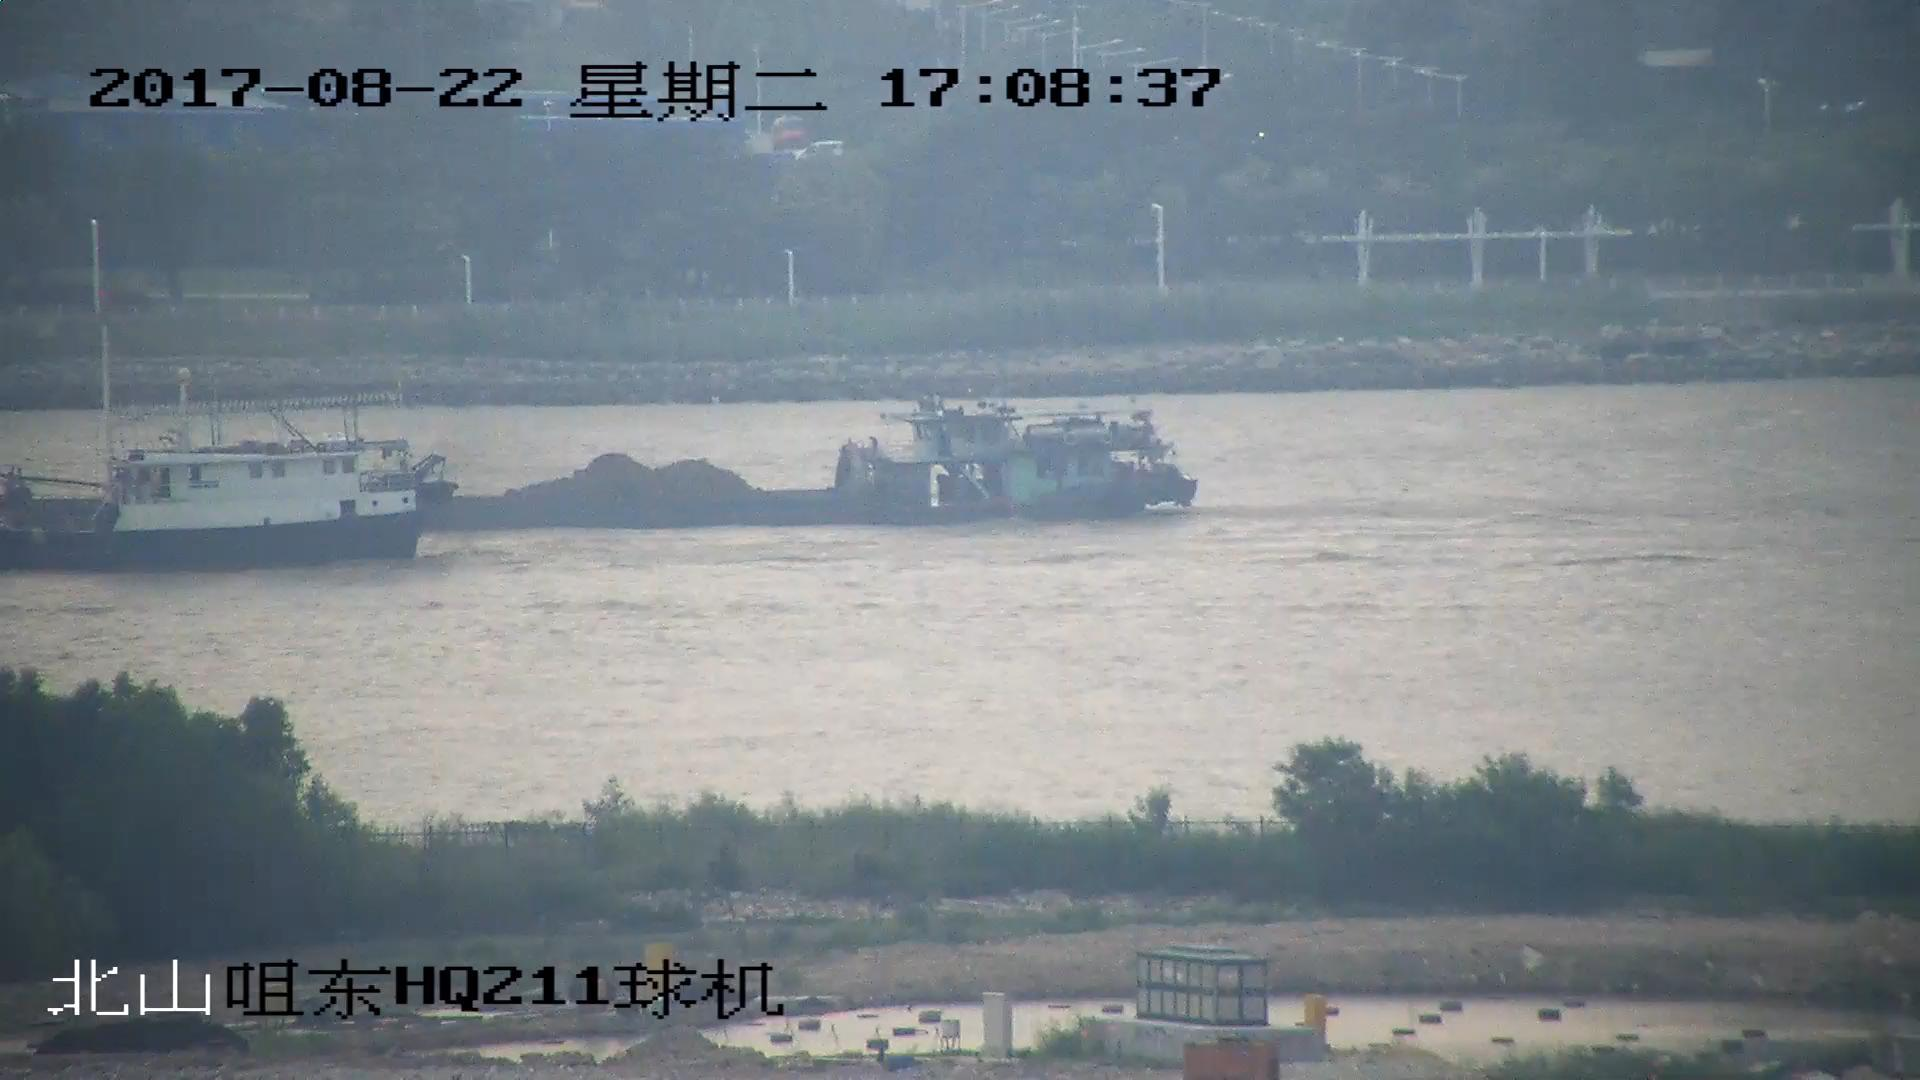Ship: (3, 400, 1203, 534), (3, 380, 440, 572)
